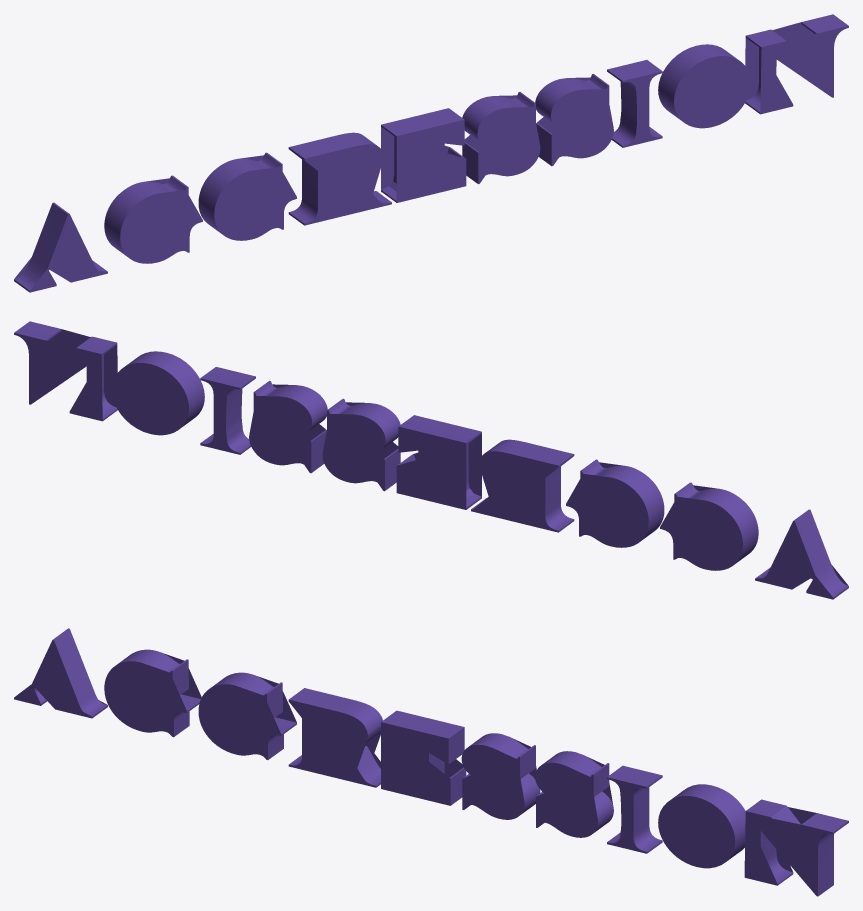
Rendered from titleLog.fbx.
3 renders of one model, top to bottom at view 1: azimuth 30°, elevation 25°; view 2: azimuth 150°, elevation 25°; view 3: azimuth 330°, elevation 25°, orthographic.
Parts seen in each view (by area): view 1: typeMesh2; view 2: typeMesh2; view 3: typeMesh2.
Boxes of the visible parts, box(x1,y1,x2,y2) form: typeMesh2: box(14, 14, 848, 292); typeMesh2: box(14, 321, 848, 599); typeMesh2: box(14, 628, 848, 896).
Size of the model in its own units: 544 by 44.44 by 18.14.
